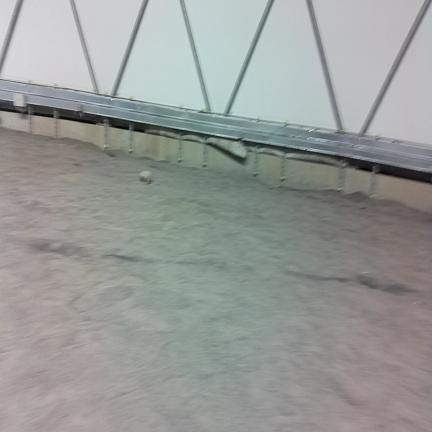Rock: (139, 171, 151, 183), (74, 162, 80, 166)
